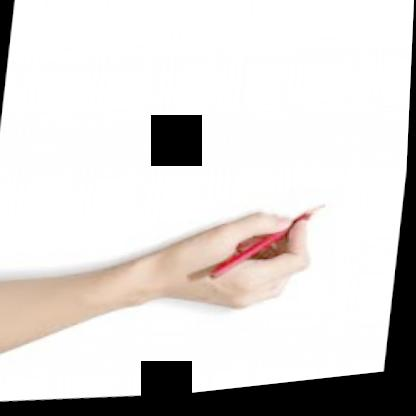pencil: (206, 205, 331, 289)
